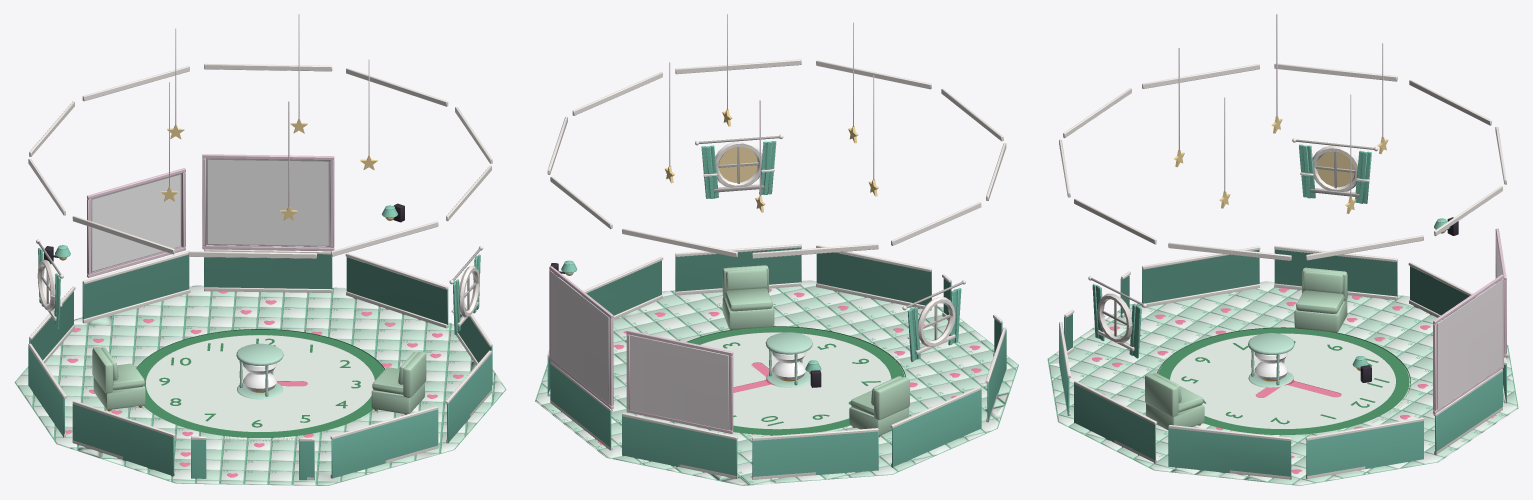
File: zon_room_calendar.glb
The picture shows the model from 3 angles, left to right: view 1: azimuth 30°, elevation 25°; view 2: azimuth 150°, elevation 25°; view 3: azimuth 270°, elevation 25°; orthographic projection.
Visible parts, largest first — view 1: SM_zon_room_calendar_room_floor_plaster_x0_zm1, SM_zon_room_calendar_room_floor_glaze_x0_zm1, SM_zon_room_calendar_room_rug_fabric_x0_zm1, SCREEN_fur_screen_calendar_dates__0, SCREEN_fur_screen_calendar_love__0, SM_zon_room_calendar_room_floor_fabric_x0_zm1, ANIM_fur_hourglass_calendar_glass__0, SM_zon_room_calendar_room_floor_gloss_x0_zm1; view 2: SM_zon_room_calendar_room_floor_plaster_x0_zm1, SM_zon_room_calendar_room_floor_glaze_x0_zm1, SM_zon_room_calendar_room_rug_fabric_x0_zm1, SM_zon_room_calendar_room_floor_fabric_x0_zm1, ANIM_fur_hourglass_calendar_glass__0, SM_zon_room_calendar_glow_vc_x0_zm1, SM_zon_room_calendar_room_floor_gloss_x0_zm1; view 3: SM_zon_room_calendar_room_floor_plaster_x0_zm1, SM_zon_room_calendar_room_floor_glaze_x0_zm1, SM_zon_room_calendar_room_rug_fabric_x0_zm1, SM_zon_room_calendar_room_floor_fabric_x0_zm1, ANIM_fur_hourglass_calendar_glass__0, SM_zon_room_calendar_glow_vc_x0_zm1, SM_zon_room_calendar_room_floor_gloss_x0_zm1.
Boxes of the visible parts, x1,y1,x2,y2 form: SM_zon_room_calendar_room_floor_plaster_x0_zm1: (28, 14, 492, 480); SM_zon_room_calendar_room_floor_glaze_x0_zm1: (14, 285, 506, 485); SM_zon_room_calendar_room_rug_fabric_x0_zm1: (136, 328, 384, 441); SCREEN_fur_screen_calendar_dates__0: (208, 159, 328, 245); SCREEN_fur_screen_calendar_love__0: (92, 174, 180, 271); SM_zon_room_calendar_room_floor_fabric_x0_zm1: (92, 347, 426, 414); ANIM_fur_hourglass_calendar_glass__0: (236, 343, 283, 399); SM_zon_room_calendar_room_floor_gloss_x0_zm1: (65, 291, 463, 477); SM_zon_room_calendar_room_floor_plaster_x0_zm1: (547, 14, 1006, 479); SM_zon_room_calendar_room_floor_glaze_x0_zm1: (535, 280, 1018, 485); SM_zon_room_calendar_room_rug_fabric_x0_zm1: (682, 326, 905, 435); SM_zon_room_calendar_room_floor_fabric_x0_zm1: (722, 265, 909, 435); ANIM_fur_hourglass_calendar_glass__0: (765, 332, 812, 387); SM_zon_room_calendar_glow_vc_x0_zm1: (565, 147, 810, 374); SM_zon_room_calendar_room_floor_gloss_x0_zm1: (598, 288, 981, 479); SM_zon_room_calendar_room_floor_plaster_x0_zm1: (1059, 14, 1506, 479); SM_zon_room_calendar_room_floor_glaze_x0_zm1: (1047, 281, 1518, 485); SM_zon_room_calendar_room_rug_fabric_x0_zm1: (1154, 327, 1411, 434); SM_zon_room_calendar_room_floor_fabric_x0_zm1: (1145, 267, 1347, 429); ANIM_fur_hourglass_calendar_glass__0: (1248, 333, 1294, 387); SM_zon_room_calendar_glow_vc_x0_zm1: (1317, 151, 1445, 371); SM_zon_room_calendar_room_floor_gloss_x0_zm1: (1092, 288, 1496, 473).
Bounding box in the file's own units: 10.57 × 7.83 × 10.29.
